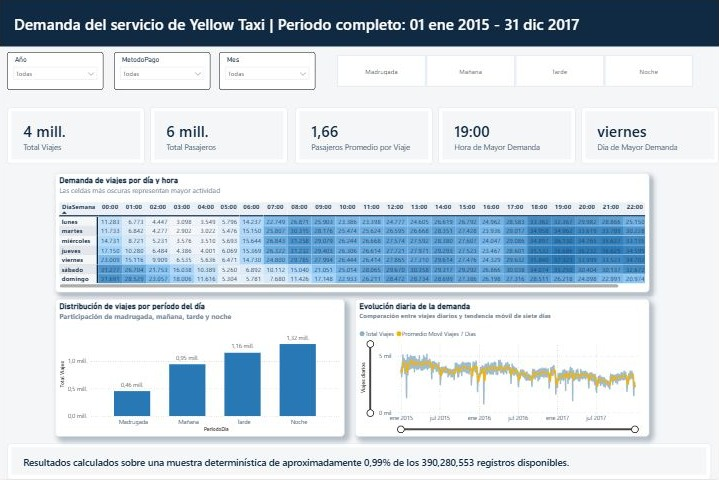

The page's visual inventory and layout, read from the dashboard file:
{"tool":"powerbi","page":{"name":"02 Demanda del Servicio","canvas":[1500,1000],"ordinal":1},"visuals":[{"type":"shape","box":[0,0,1500,97],"z":0},{"type":"slicer","fields":{"Values":["DimFecha.Año"]},"box":[14.3,108.6,201.4,78.6],"z":1000},{"type":"slicer","fields":{"Values":["DimFecha.Mes"]},"box":[457.1,108.6,201.4,78.6],"z":2000},{"type":"slicer","fields":{"Values":["DimMetodoPago.MetodoPago"]},"box":[238.6,108.6,201.4,78.6],"z":3000},{"type":"cardVisual","fields":{"Data":["MedidasDAX.Titulo Demanda"]},"box":[0,0,1468.6,97.1],"z":4000},{"type":"cardVisual","fields":{"Data":["MedidasDAX.Nota Metodologica"]},"box":[14.3,924.3,1468.6,75.7],"z":5000},{"type":"slicer","fields":{"Values":["DimHora.PeriodoDia"]},"box":[677.1,108.6,791.4,78.6],"z":6000},{"type":"cardVisual","fields":{"Data":["MedidasDAX.Total Viajes"]},"box":[14.3,222.9,287.1,118.6],"z":7000},{"type":"cardVisual","fields":{"Data":["MedidasDAX.Total Pasajeros"]},"box":[312.9,222.9,287.1,118.6],"z":8000},{"type":"cardVisual","fields":{"Data":["MedidasDAX.Pasajeros Promedio por Viaje"]},"box":[615.7,222.9,287.1,118.6],"z":9000},{"type":"cardVisual","fields":{"Data":["MedidasDAX.Hora de Mayor Demanda"]},"box":[914.3,222.9,287.1,118.6],"z":10000},{"type":"cardVisual","fields":{"Data":["MedidasDAX.Dia de Mayor Demanda"]},"box":[1212.9,222.9,287.1,118.6],"z":11000},{"type":"pivotTable","title":"Demanda de viajes por día y hora","fields":{"Columns":["DimHora.HoraTexto"],"Rows":["DimFecha.DiaSemana"],"Values":["MedidasDAX.Total Viajes"]},"box":[114.3,360,1240,248.6],"z":12000},{"type":"clusteredColumnChart","title":"Distribución de viajes por período del día","fields":{"Category":["DimHora.PeriodoDia"],"Y":["MedidasDAX.Total Viajes"]},"box":[114.3,624.3,604.3,287.1],"z":13000},{"type":"lineChart","title":"Evolución diaria de la demanda","fields":{"Category":["DimFecha.Fecha"],"Y":["MedidasDAX.Total Viajes","MedidasDAX.Promedio Movil Viajes 7 Dias"]},"box":[740,624.3,614.3,287.1],"z":14000}]}

Visuals, with their boxes in screenshot pixels (x1, y1, x2, y2), scaled from the page's 1500x1000 canvas onto the 719x480 screenshot:
shape: 0/0/718/47
slicer - DimFecha.Año: 7/52/103/90
slicer - DimFecha.Mes: 219/52/316/90
slicer - DimMetodoPago.MetodoPago: 114/52/211/90
cardVisual - MedidasDAX.Titulo Demanda: 0/0/704/47
cardVisual - MedidasDAX.Nota Metodologica: 7/444/711/479
slicer - DimHora.PeriodoDia: 325/52/704/90
cardVisual - MedidasDAX.Total Viajes: 7/107/144/164
cardVisual - MedidasDAX.Total Pasajeros: 150/107/288/164
cardVisual - MedidasDAX.Pasajeros Promedio por Viaje: 295/107/433/164
cardVisual - MedidasDAX.Hora de Mayor Demanda: 438/107/576/164
cardVisual - MedidasDAX.Dia de Mayor Demanda: 581/107/718/164
"Demanda de viajes por día y hora" pivotTable: 55/173/649/292
"Distribución de viajes por período del día" clusteredColumnChart: 55/300/344/437
"Evolución diaria de la demanda" lineChart: 355/300/649/437
